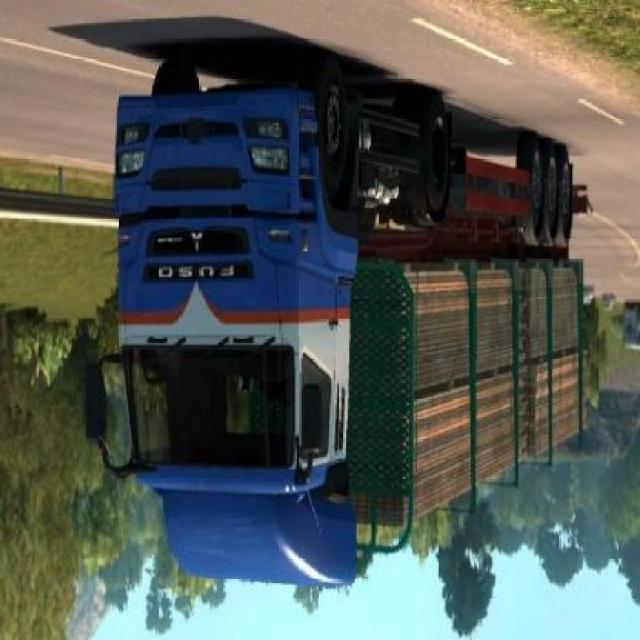truck: (92, 63, 593, 589)
